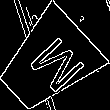M_SW: (14, 29, 81, 97)
